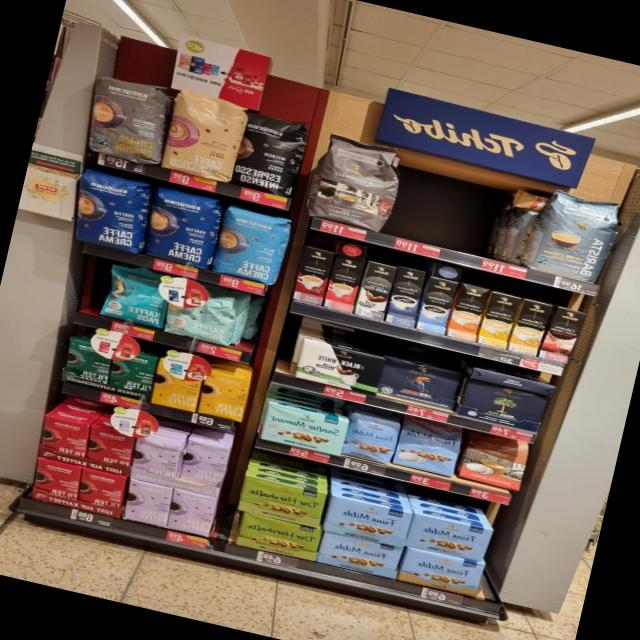BM Gemahlen: (454, 376, 552, 434)
BW Gemahlen: (295, 336, 387, 397)
Barista CC: (515, 181, 630, 287)
CC Vollmundig: (453, 428, 533, 497)
Empty Shelf: (388, 150, 540, 264)
Espresso Aromatisch: (302, 128, 408, 234)
FM 36 Pads: (388, 415, 467, 480)
FM Bohne: (338, 407, 402, 465)
FM Gemahlen: (396, 545, 486, 599), (403, 513, 497, 562), (323, 495, 409, 548), (315, 529, 404, 580)
Herzhatfe Mundig: (233, 474, 326, 530), (235, 511, 322, 561)
LG Gemahlen: (375, 353, 463, 411)
SM Gemahlen: (256, 400, 348, 457)
Simo CC Colombia: (538, 306, 588, 364)
Simo CCMild bigpack: (476, 291, 522, 350)
Simo CCVollmundig bigpack: (445, 281, 490, 343)
Simo Decaff: (507, 298, 554, 356)
Simo Es Brazil: (323, 253, 364, 313)
Simo Es Caramel: (291, 245, 334, 305)
Simo Es Elegant: (353, 259, 398, 321)
Simo Es Kraft: (384, 265, 426, 327)
Simo Es Vanilla: (416, 276, 458, 336)
